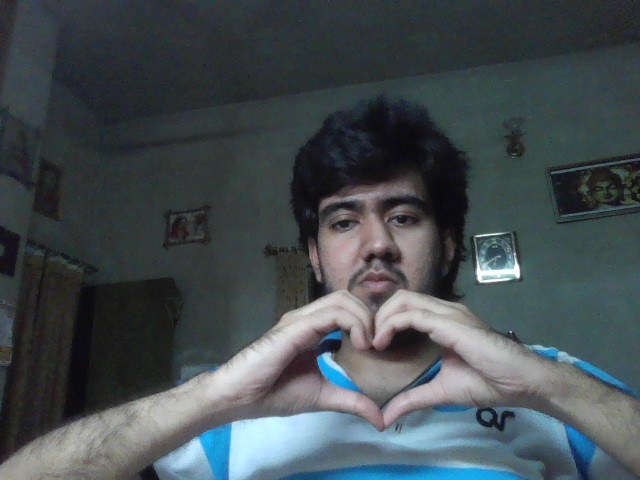Love: (236, 289, 522, 431)
